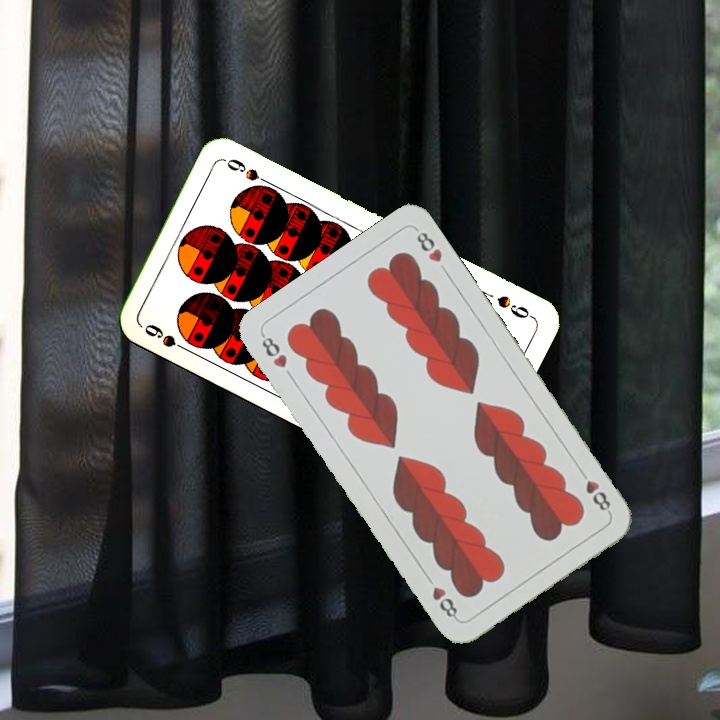H8: (574, 465, 614, 517), (257, 330, 290, 371)
S9: (140, 320, 193, 355), (493, 291, 536, 321)
